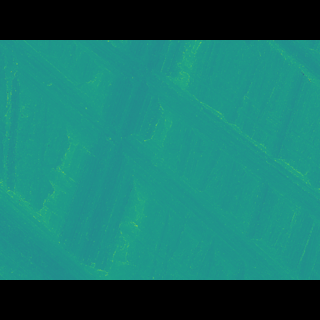Loch: (0, 69, 300, 249), (71, 69, 320, 209), (0, 178, 92, 249), (257, 69, 320, 105)
